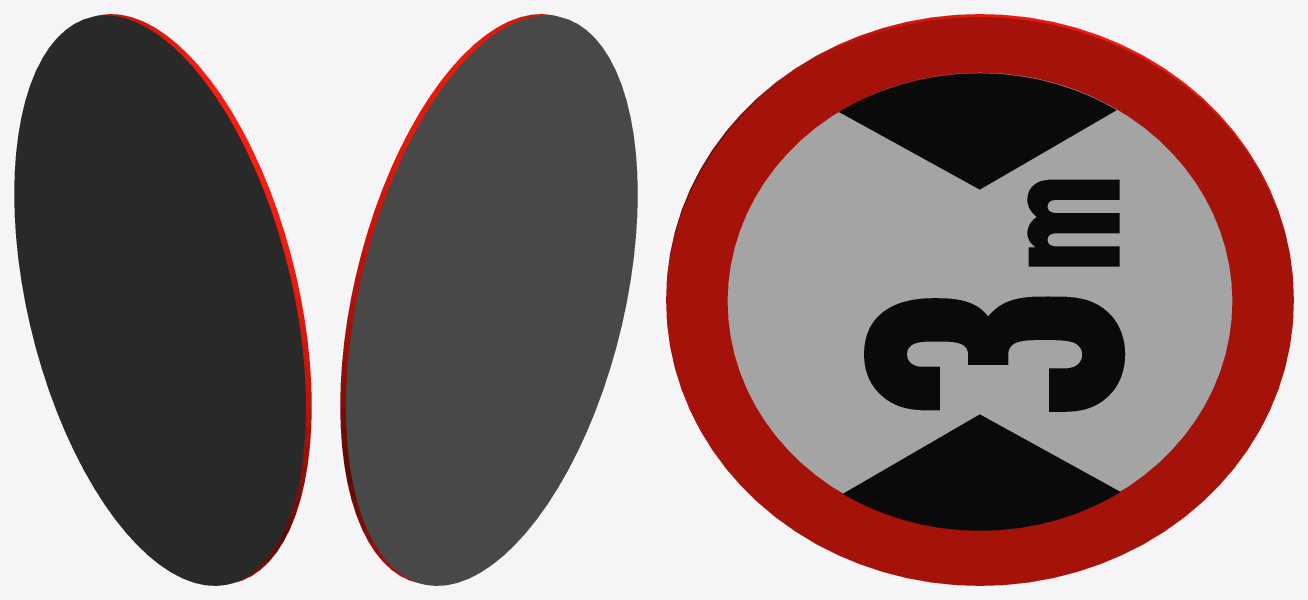
3 views of the same model, side by side, from view 1: azimuth 30°, elevation 25°; view 2: azimuth 150°, elevation 25°; view 3: azimuth 270°, elevation 25° (orthographic). The views are drawn at different scales.
Parts seen in each view (by area): view 1: 圆环; view 2: 圆环; view 3: 圆环, 圆环.002, 文本, 文本.003.
Part boxes in pixels (x1=…): 圆环: x1=14, y1=14, x2=311, y2=585; 圆环: x1=340, y1=14, x2=637, y2=585; 圆环: x1=666, y1=14, x2=1293, y2=585; 圆环.002: x1=839, y1=73, x2=1120, y2=530; 文本: x1=864, y1=296, x2=1125, y2=411; 文本.003: x1=1027, y1=179, x2=1119, y2=266.
Size of the model in its own units: 0.0113 by 0.8 by 0.8.
